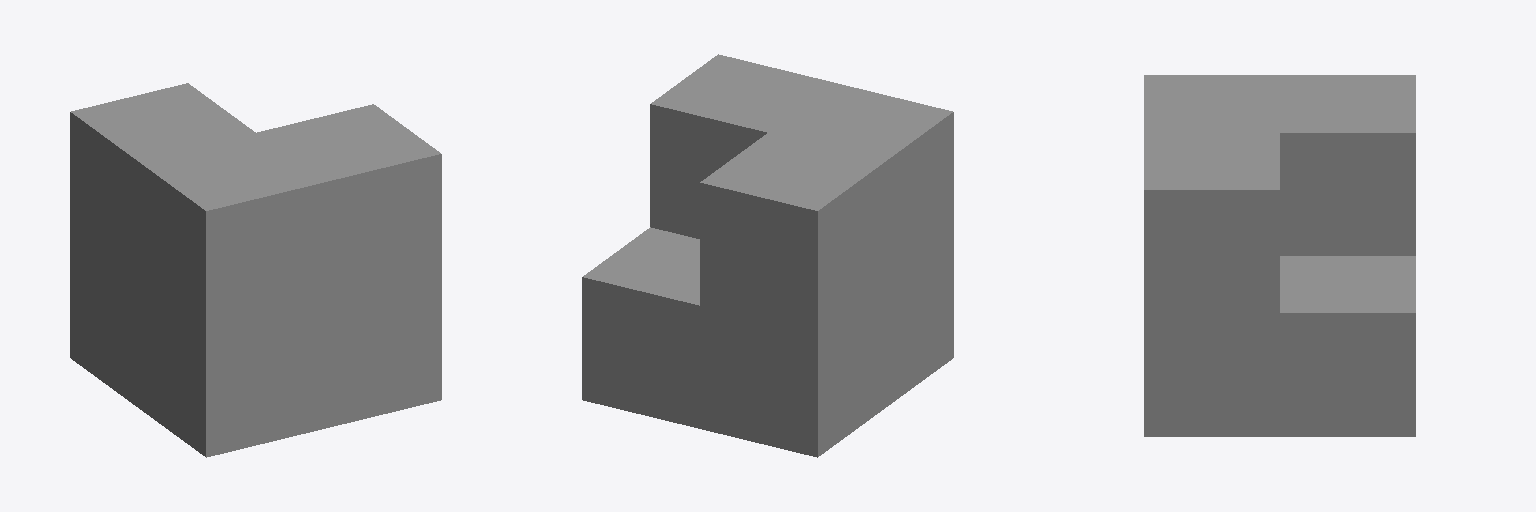
File: stairs_inner_corner.obj
The picture shows the model from 3 angles: view 1: azimuth 30°, elevation 25°; view 2: azimuth 150°, elevation 25°; view 3: azimuth 270°, elevation 25°; orthographic projection.
Visible parts, largest first — view 1: Cube; view 2: Cube; view 3: Cube.
Part boxes in pixels (x1,y1,x2,y2): Cube: (70,83,441,457); Cube: (582,54,953,457); Cube: (1144,75,1415,436).
Bounding box in the file's own units: 2 × 2 × 2.